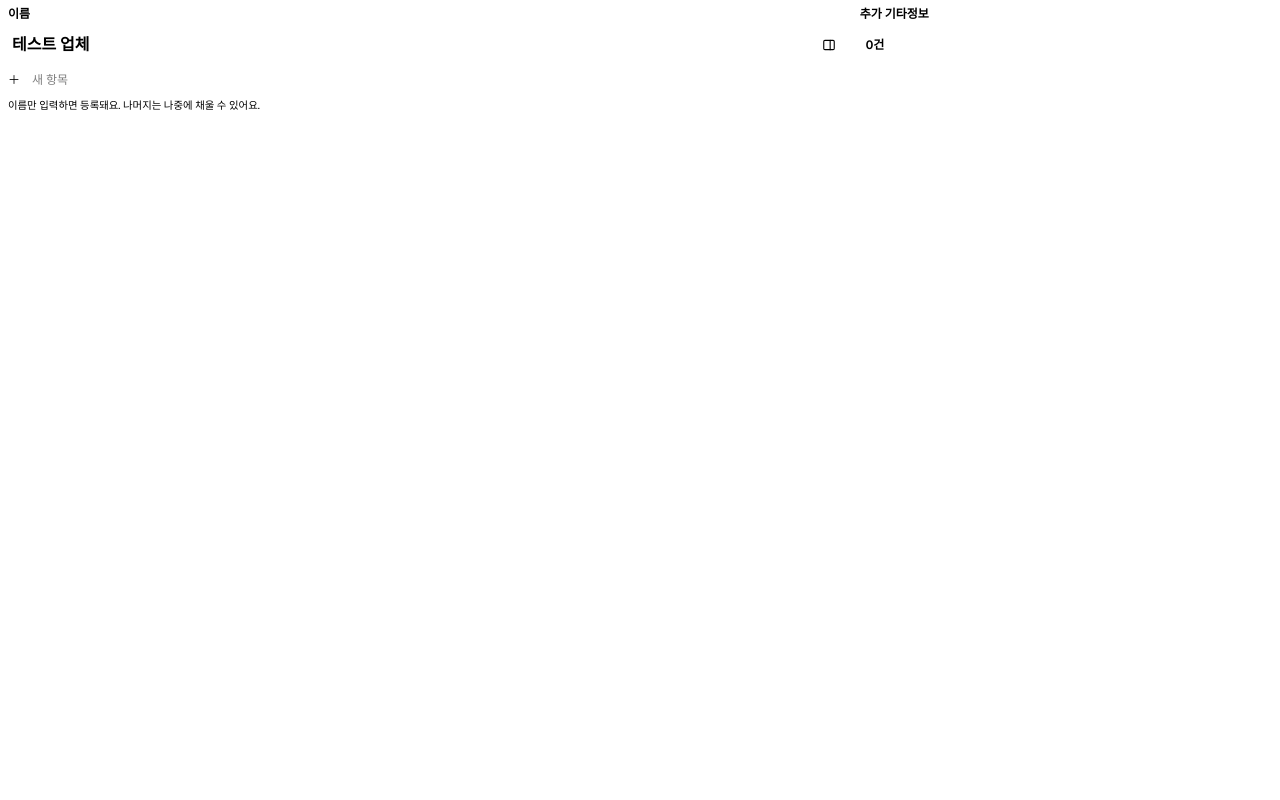
it: routes a custom other_info table cell by its actual key without canonical legacy projection
Click the button named "기타정보 0건 편집": (875,45) [858,31,1272,59]
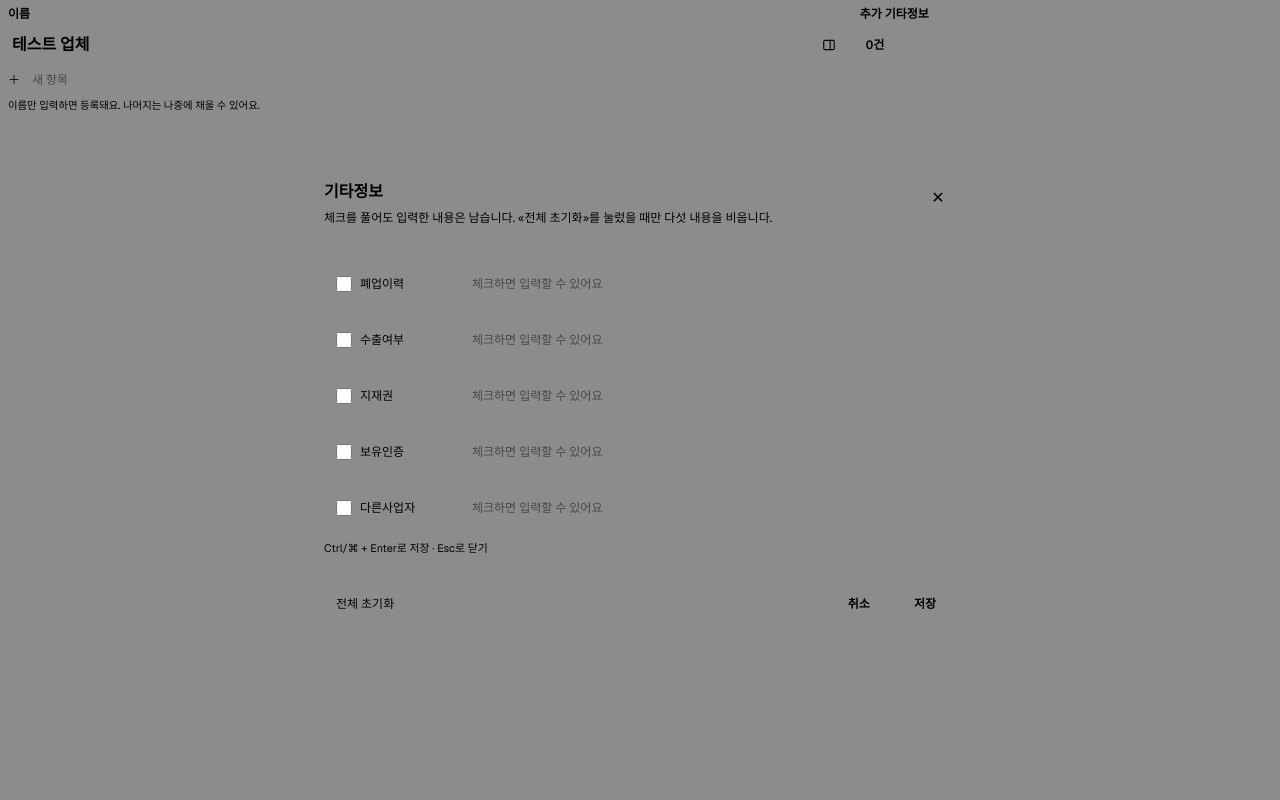
Check: the form named "fieldKey" is shown, box [304,164,976,636]
